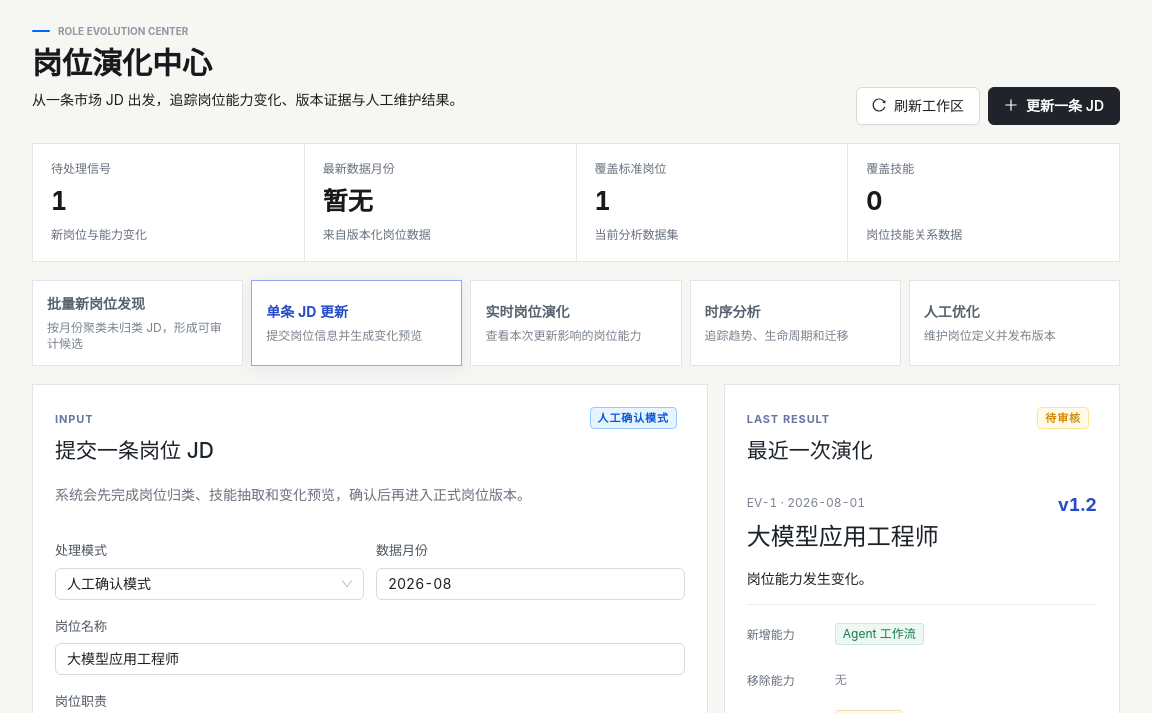
Test: RoleEvolutionCenterPage › runs the isolated new-role validation without claiming a production change
Expected: the heading "岗位演化中心" is shown, [32,45,212,81]
Click the button "批量新岗位发现 按月份聚类未归类 JD，形成可审计候选" at (138, 323), box [32,280,243,366]
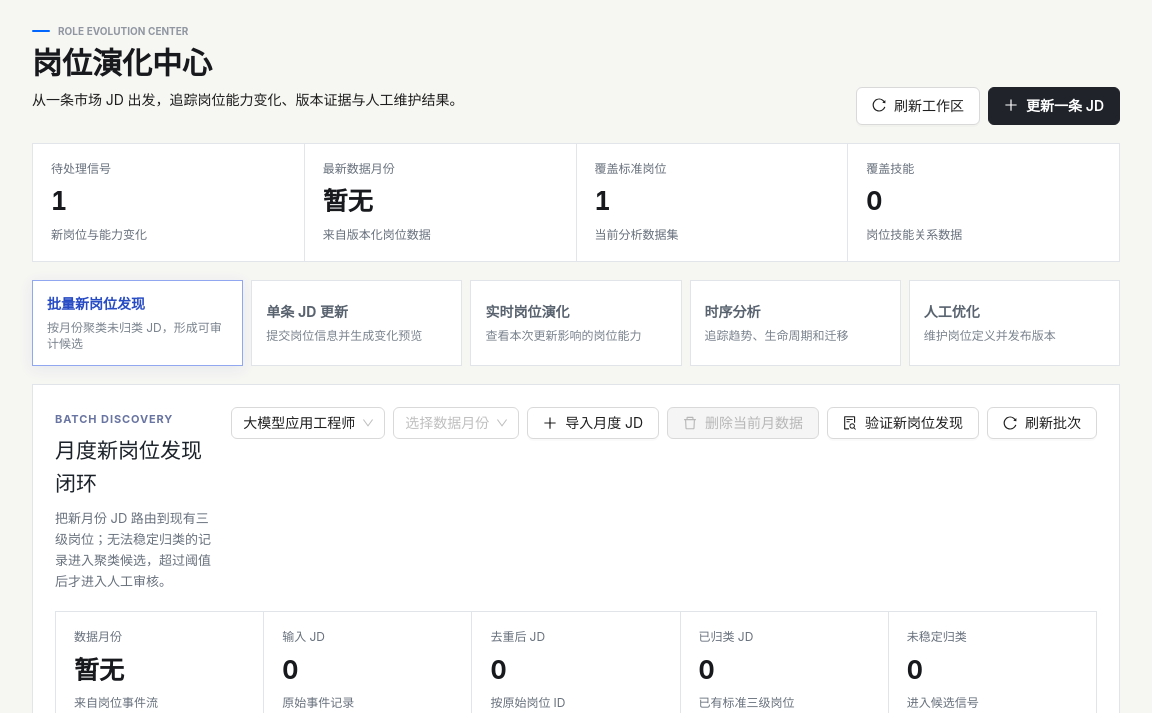
Result: the heading "月度新岗位发现闭环" is shown at [55,434,211,500]
Click the button "验证新岗位发现" at (903, 423), box [827,407,979,439]
(page scrolled)
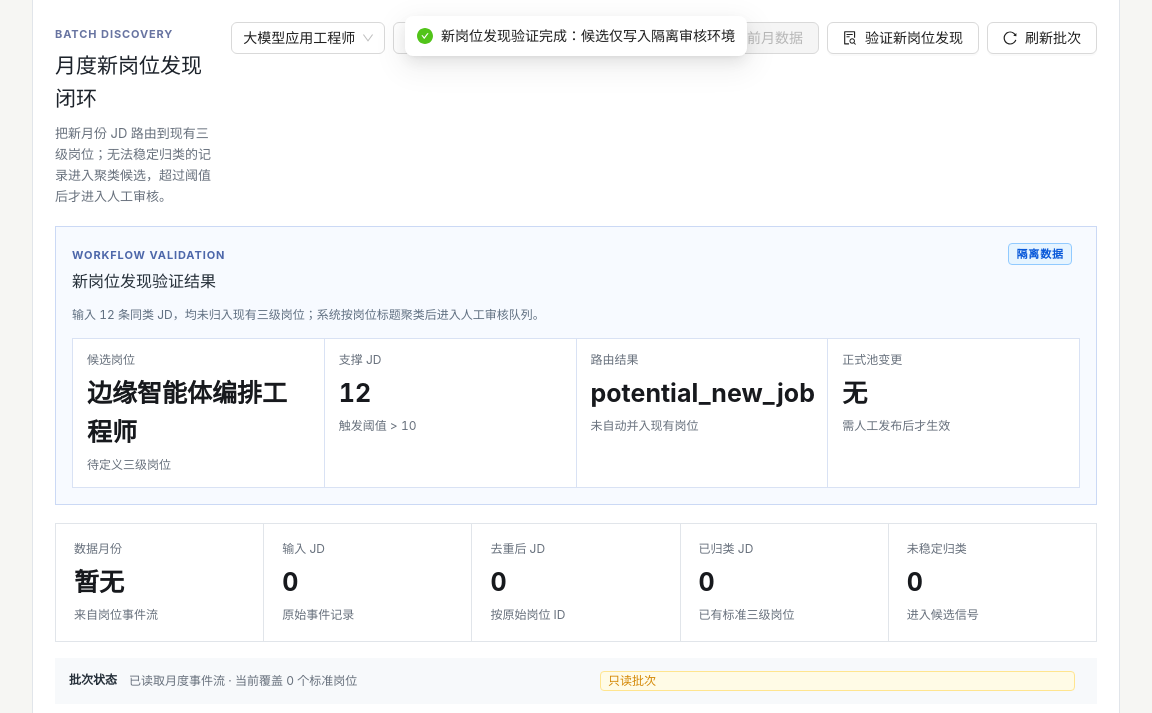
Result: the heading "新岗位发现验证结果" is shown at [72,269,225,294]
Result: the text "边缘智能体编排工程师" is shown at [87,374,310,452]
Result: the text "正式池变更" is shown at [842,352,902,367]
